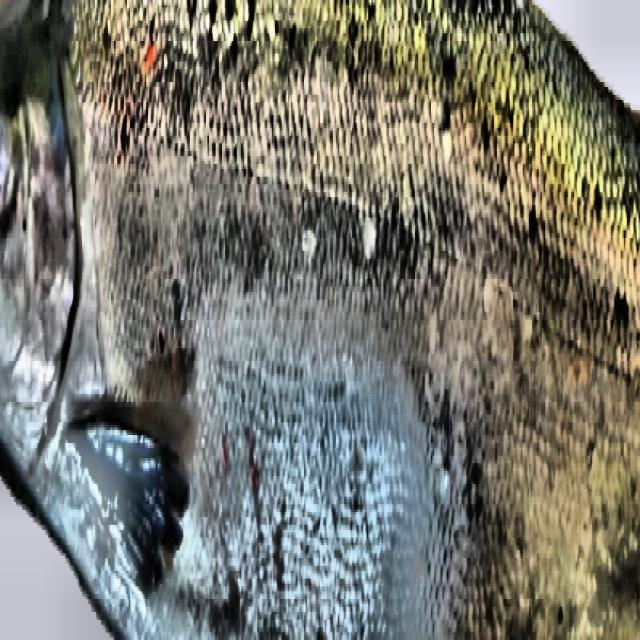mild_red: (75, 0, 639, 637)
